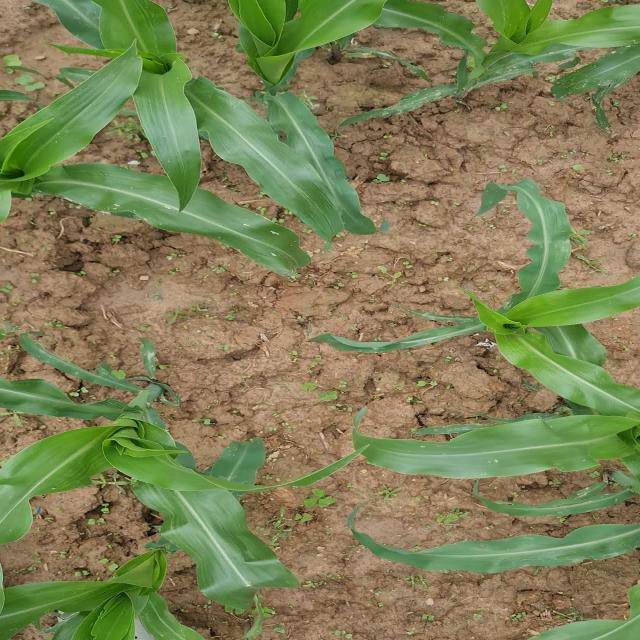maize: (0, 0, 640, 248), (426, 223, 640, 639), (18, 337, 278, 638)
